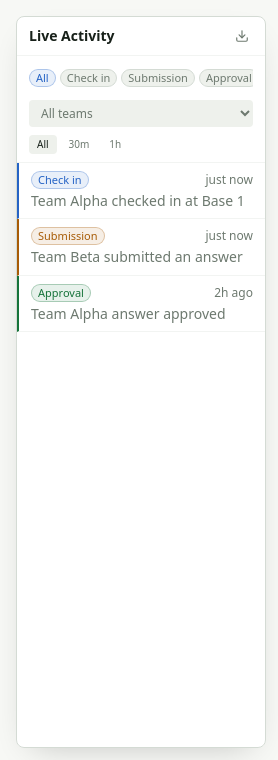
Test: ActivityFeed › filters by time window
The width and height of the screenshot is (278, 760).
Expected: the number of elements with test id "activity-event" is 3, left=17, top=163, right=265, bottom=219; left=17, top=219, right=265, bottom=276; left=17, top=276, right=265, bottom=332
Note: Click 30m filter — event-3 (2h ago) should be hidden
Click the button with test id "time-filter-30m".
click(79, 144)  # box left=61, top=135, right=97, bottom=154
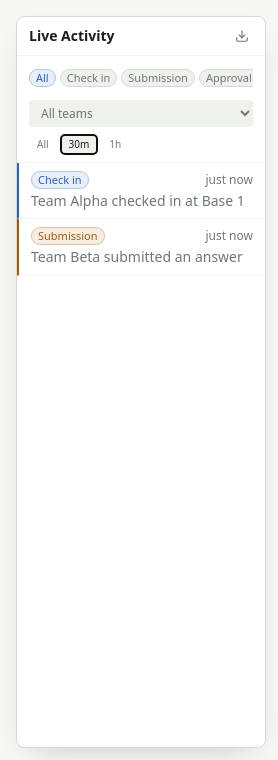
Expected: the number of elements with test id "activity-event" is 2, left=17, top=163, right=265, bottom=219; left=17, top=219, right=265, bottom=276
Expected: the text "Team Alpha answer approved" is gone
